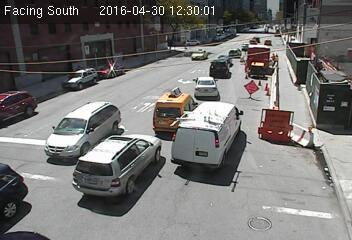neg: (115, 79, 184, 171), (56, 137, 91, 183), (216, 128, 249, 171), (44, 41, 76, 84), (252, 110, 283, 151), (183, 110, 213, 150), (12, 95, 37, 128), (288, 31, 313, 63), (112, 39, 134, 67), (176, 44, 193, 67), (224, 20, 241, 42)
pos: (262, 49, 285, 80)
